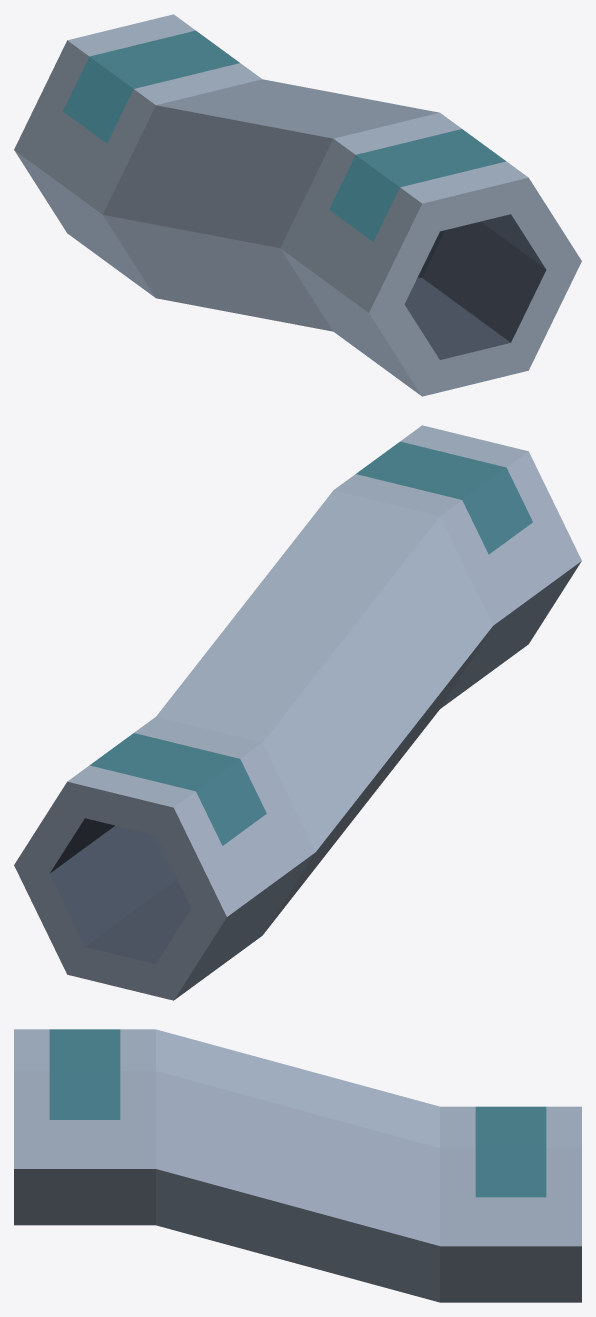
The model's file is pipe_rampSmall.glb.
3 renders of one model, top to bottom at view 1: azimuth 30°, elevation 25°; view 2: azimuth 150°, elevation 25°; view 3: azimuth 270°, elevation 25°, orthographic. The views are drawn at different scales.
Visible parts, largest first — view 1: pipe_rampSmall; view 2: pipe_rampSmall; view 3: pipe_rampSmall.
Boxes of the visible parts, bbox=[...] form: pipe_rampSmall: bbox=[14, 14, 581, 396]; pipe_rampSmall: bbox=[14, 425, 581, 1000]; pipe_rampSmall: bbox=[14, 1029, 581, 1302].
Size of the model in its own units: 0.6928 by 0.9 by 2.
